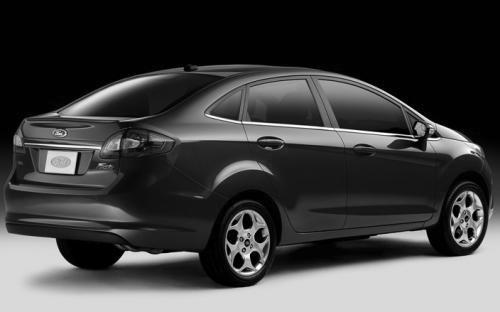car: (3, 60, 499, 289)
